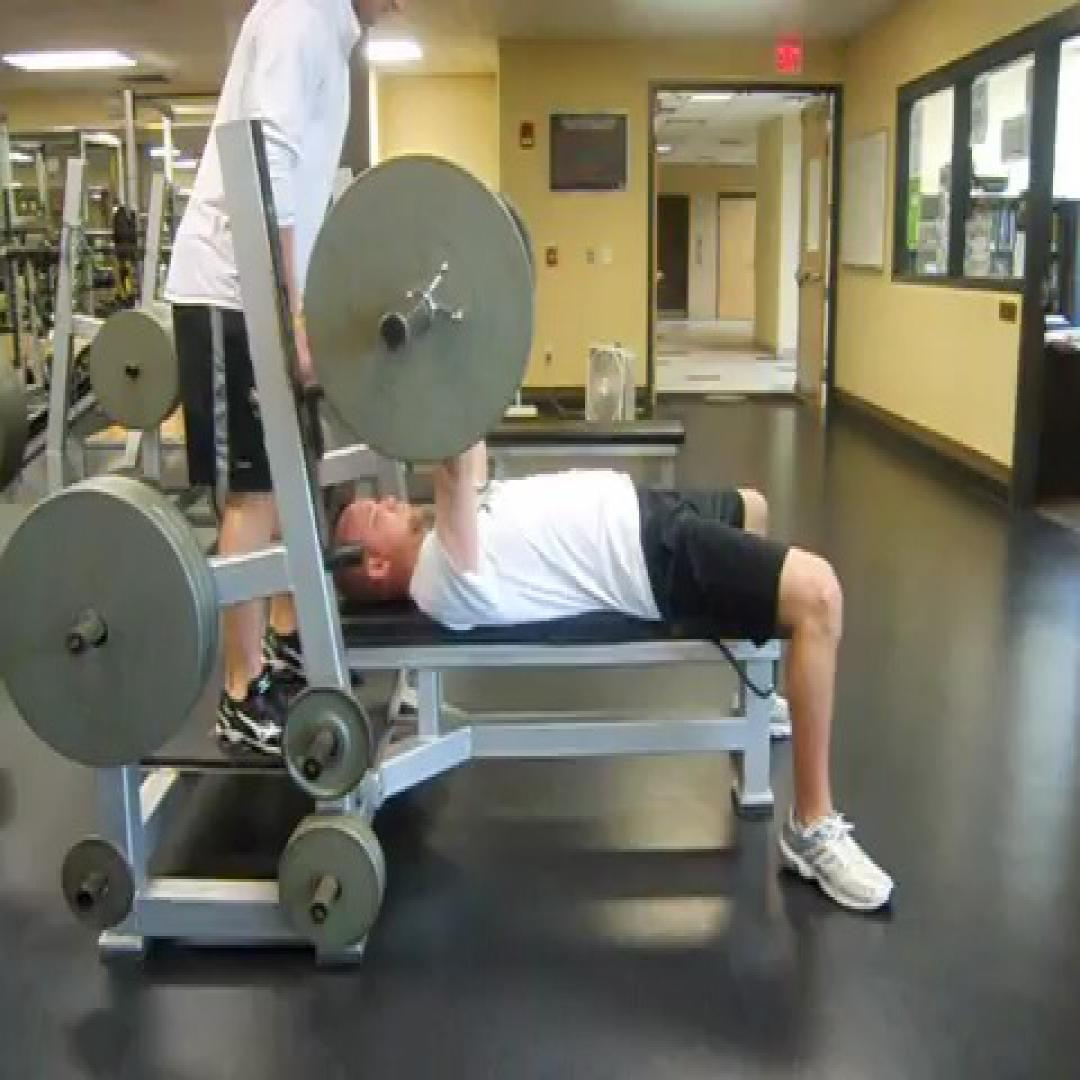Bar: (376, 309, 412, 354)
Barbell: (304, 153, 533, 462)
